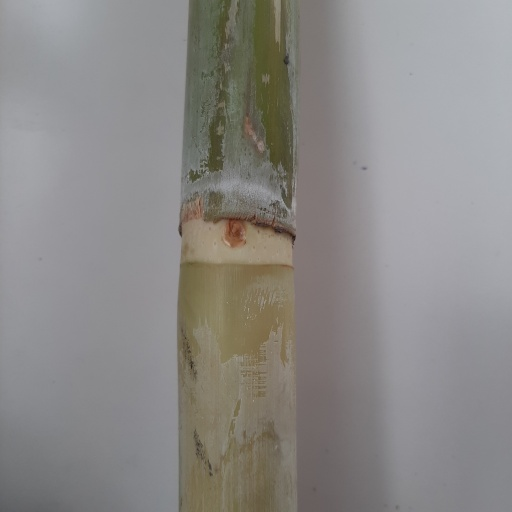Damage_Bud: (226, 216, 247, 250)
